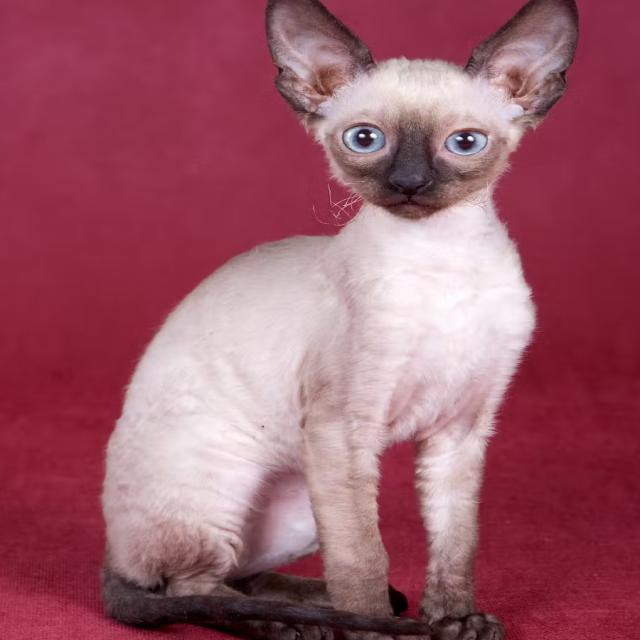Cornish Rex: (93, 0, 592, 640)
